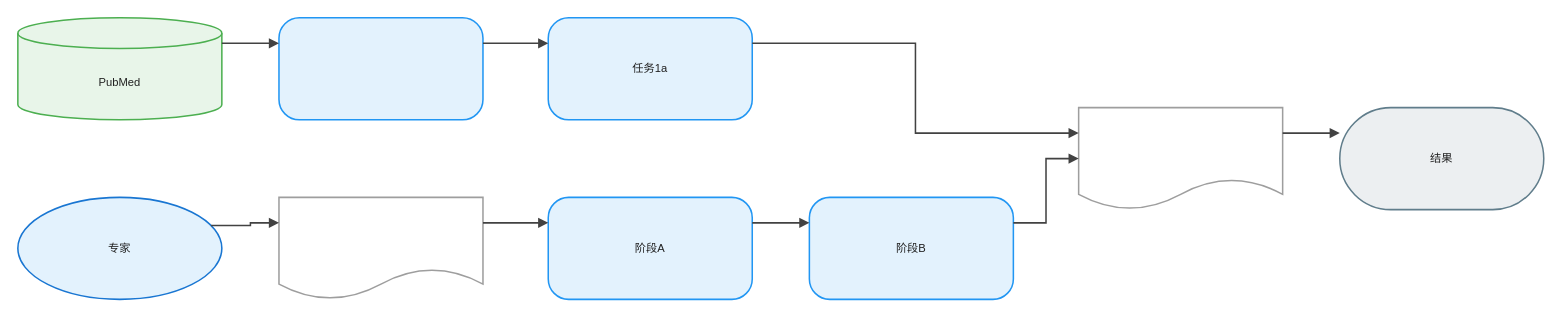
Some shapes in this 1563 by 318 pixel diagram are drawn without their labels. The box of each missing label's shape, as (x1, y1, x2, y2) in pixels:
MeSH: (278, 17, 483, 120)
QA金标: (278, 196, 483, 300)
指标: (1077, 106, 1283, 210)
